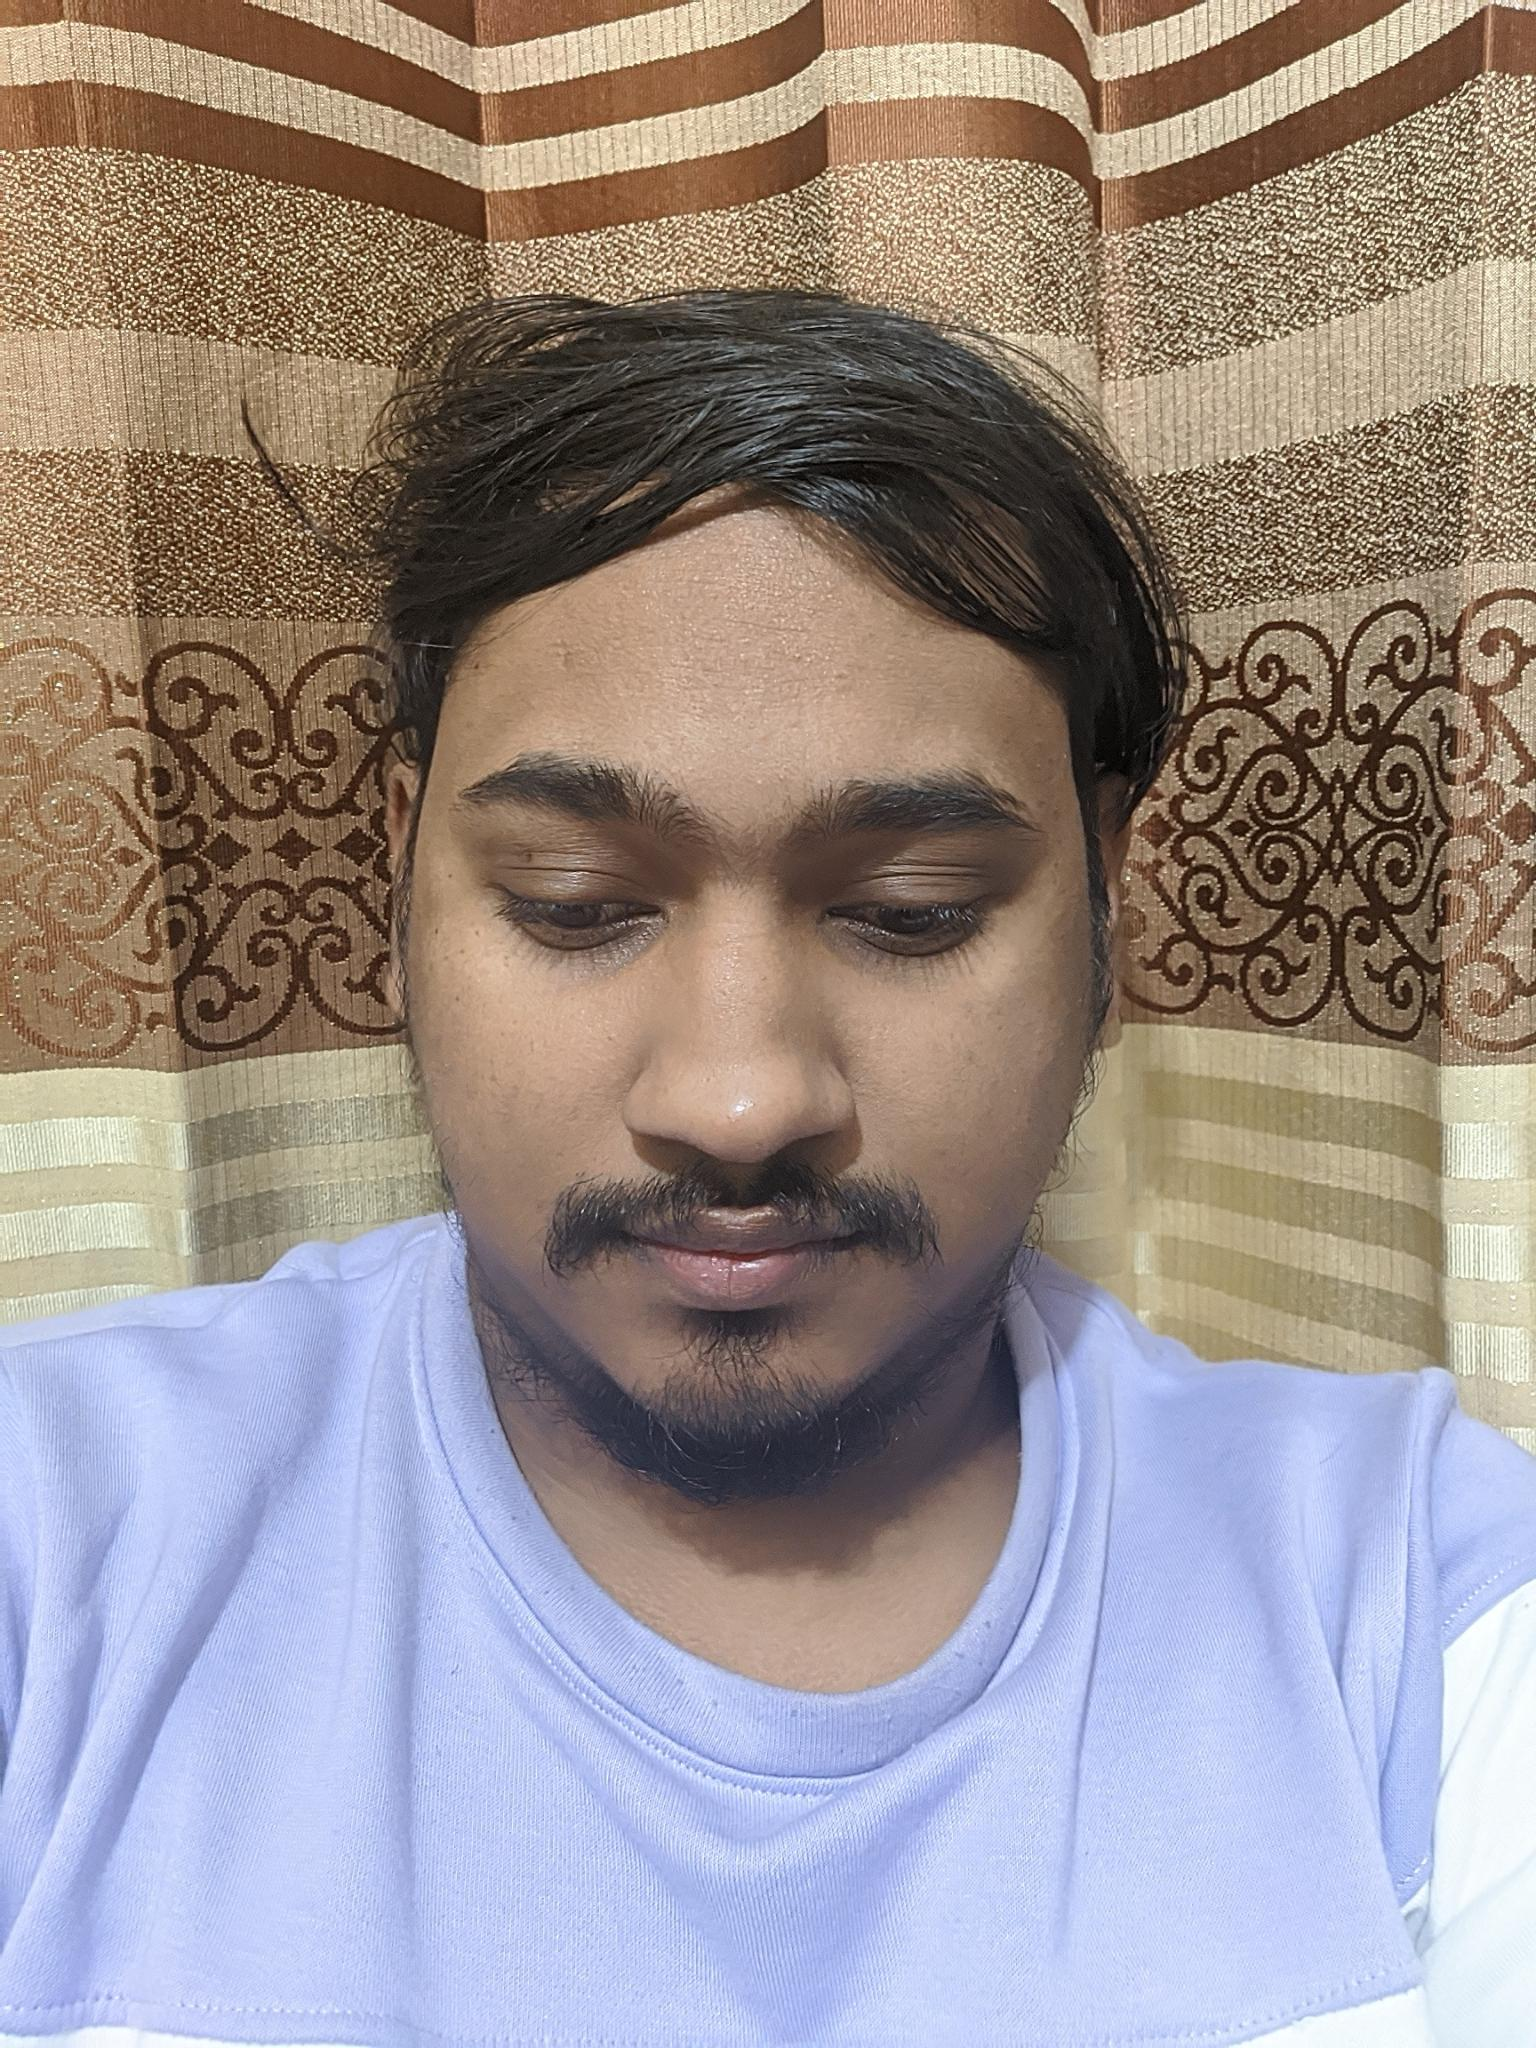Neutral: (402, 619, 1087, 1467)
